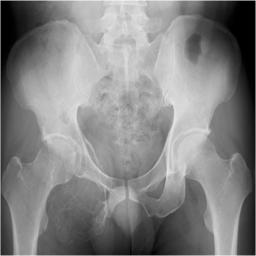cancer: (44, 177, 106, 246)
